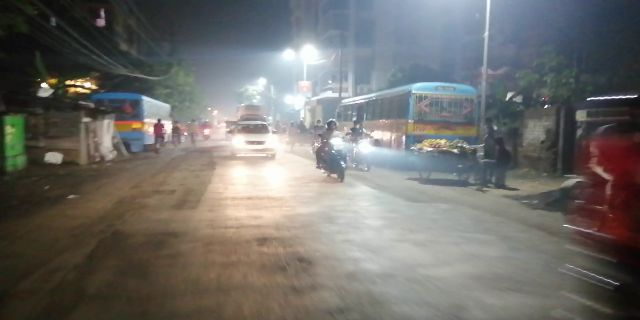Bus: (329, 79, 482, 169)
Car: (230, 120, 278, 160)
Motorbike: (318, 118, 354, 185)
